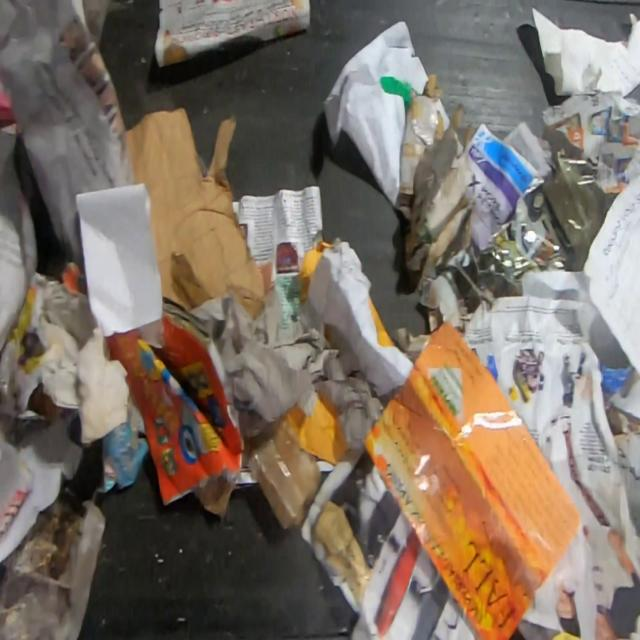cardboard: (126, 106, 272, 324), (396, 73, 476, 269), (247, 421, 324, 528)
